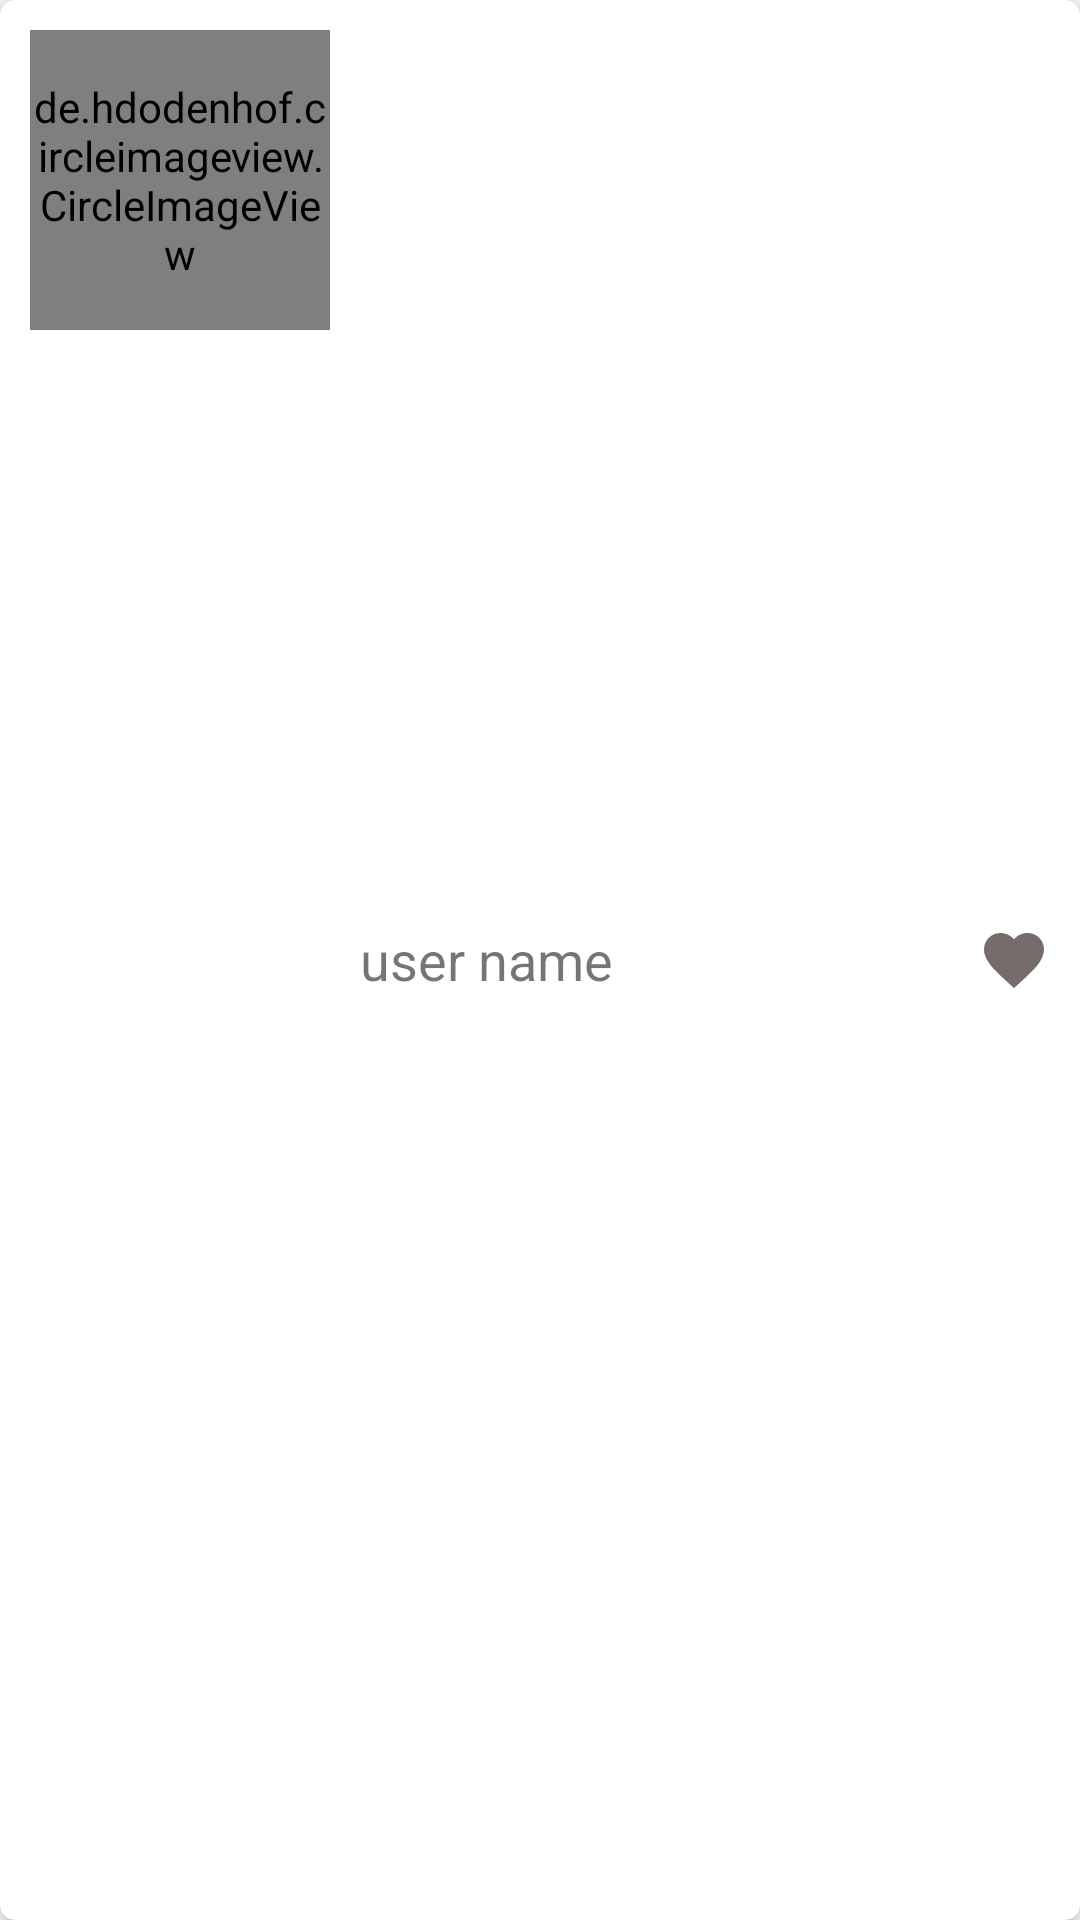

Screen size 1080px×1920px. Icon name, then its box in pixels as bbox(x1, y1, x2, y2):
favorite: bbox(984, 933, 1044, 988)
